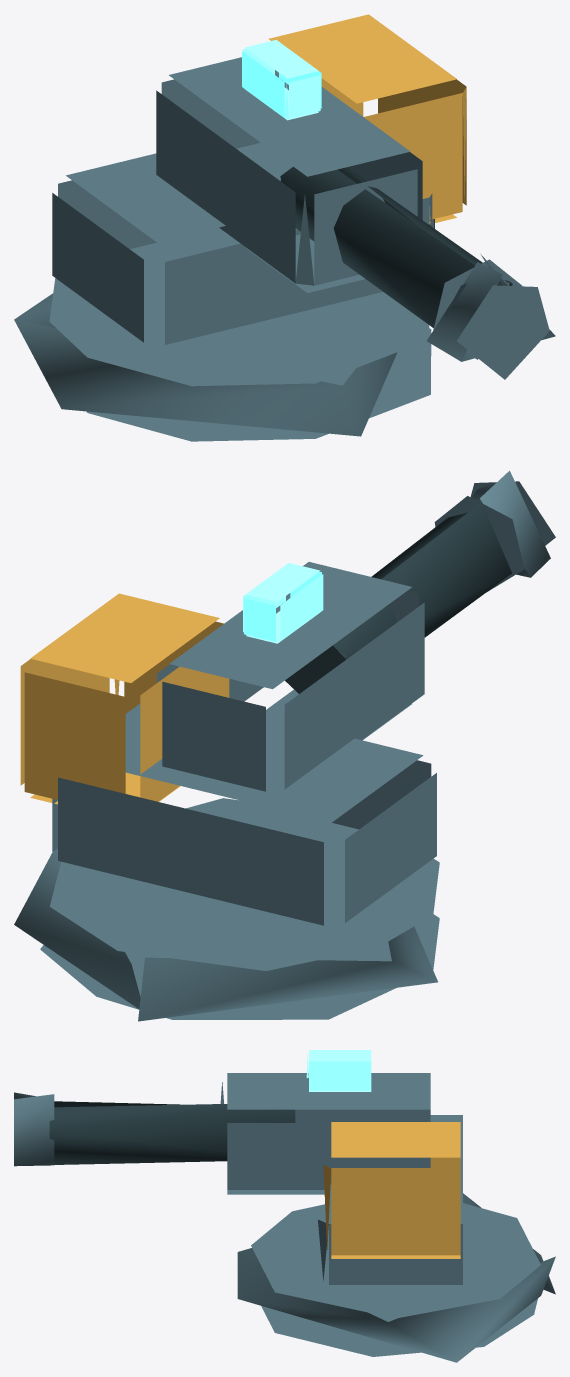
The model's file is convoy-gun.glb.
The picture shows the model from 3 angles, top to bottom: view 1: azimuth 30°, elevation 25°; view 2: azimuth 150°, elevation 25°; view 3: azimuth 270°, elevation 25°; orthographic projection. The views are drawn at different scales.
Visible parts, largest first — view 1: Roof mount, Gun receiver, Mechanism, Ammo case, Barrel sleeve, Muzzle brake, Sight; view 2: Roof mount, Mechanism, Gun receiver, Ammo case, Barrel sleeve, Muzzle brake, Sight; view 3: Roof mount, Ammo case, Gun receiver, Barrel sleeve, Mechanism, Muzzle brake, Sight.
Boxes of the visible parts, x1,y1,x2,y2 form: Roof mount: (14, 228, 431, 441); Gun receiver: (156, 57, 422, 292); Mechanism: (52, 143, 434, 353); Ammo case: (268, 14, 466, 223); Barrel sleeve: (280, 166, 512, 327); Muzzle brake: (427, 254, 555, 379); Sight: (242, 40, 321, 120); Roof mount: (14, 798, 439, 1021); Mechanism: (52, 703, 436, 933); Gun receiver: (157, 562, 424, 791); Ammo case: (20, 593, 229, 804); Barrel sleeve: (285, 502, 511, 693); Muzzle brake: (434, 470, 555, 592); Sight: (243, 563, 323, 643); Roof mount: (237, 1193, 555, 1362); Ammo case: (323, 1122, 460, 1258); Gun receiver: (220, 1073, 430, 1194); Barrel sleeve: (49, 1101, 295, 1164); Mechanism: (318, 1115, 462, 1290); Muzzle brake: (14, 1092, 54, 1166); Sight: (306, 1050, 371, 1091).
Size of the model in its own units: 1.42 by 1.19 by 2.43.
